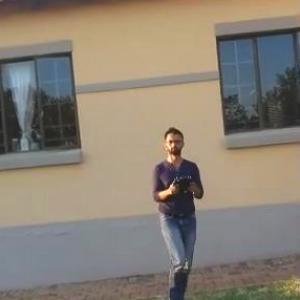follow: (148, 122, 211, 299)
